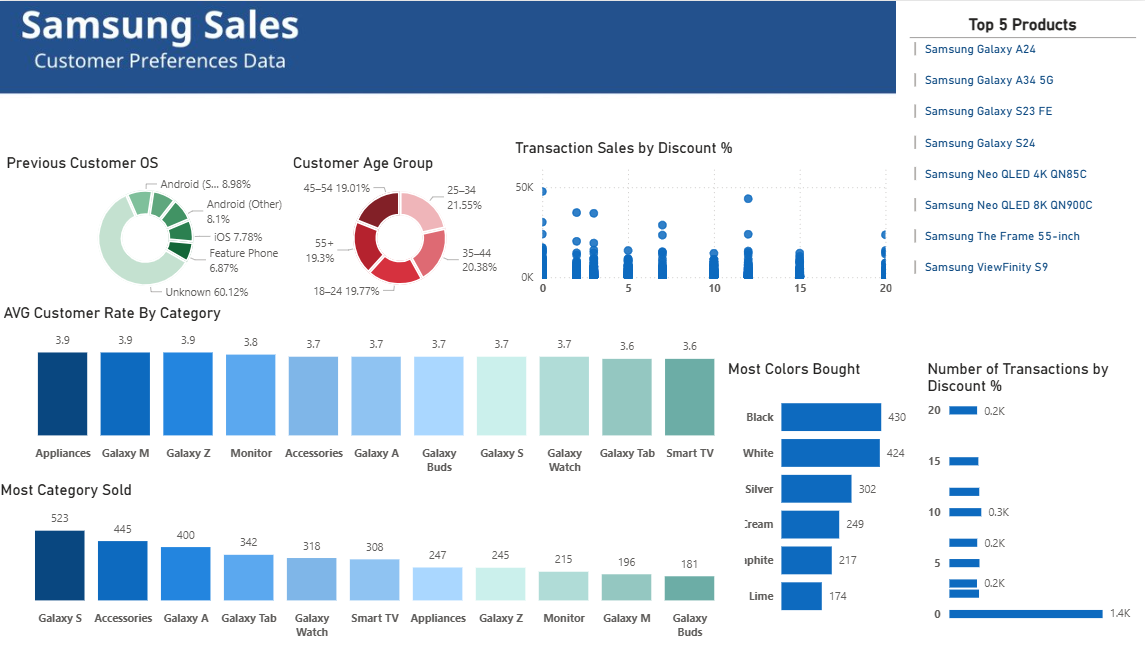

What the dashboard file says about the page in this screenshot:
{"tool":"powerbi","page":{"name":"Customer Prefrence","canvas":[1280,720],"ordinal":1},"visuals":[{"type":"donutChart","title":"Previous Customer OS","fields":{"Category":["dashboard_samsung.previous_device_os"],"Y":["CountNonNull(dashboard_samsung.previous_device_os)"]},"box":[6.7,170,318.3,166.7],"z":0},{"type":"clusteredColumnChart","title":"AVG Customer Rate By Category","fields":{"Category":["dashboard_samsung.category"],"Y":["Median(dashboard_samsung.customer_rating)"]},"box":[3.3,336.7,828.3,196.7],"z":1000},{"type":"clusteredBarChart","title":"Number of Transactions by Discount %","fields":{"Category":["dashboard_samsung.discount_pct"],"Y":["CountNonNull(dashboard_samsung.discount_pct)"]},"box":[1030,398.3,238.3,300],"z":2000},{"type":"clusteredBarChart","title":"Most Colors Bought","fields":{"Category":["dashboard_samsung.color"],"Y":["CountNonNull(dashboard_samsung.color)"]},"box":[808.3,398.3,210,300],"z":3000},{"type":"clusteredColumnChart","title":"Most Category Sold","fields":{"Category":["dashboard_samsung.category"],"Y":["CountNonNull(dashboard_samsung.category)"]},"box":[0,533.3,831.7,183.3],"z":4000},{"type":"donutChart","title":"Customer Age Group","fields":{"Category":["dashboard_samsung.customer_age_group"],"Y":["CountNonNull(dashboard_samsung.customer_age_group)"]},"box":[325,170,246.7,166.7],"z":5000},{"type":"scatterChart","title":"Transaction Sales by Discount %","fields":{"X":["dashboard_samsung.discount_pct"],"Y":["dashboard_samsung.total_transaction_price"]},"box":[571.7,153.3,428.3,183.3],"z":5002},{"type":"shape","box":[1000,0,280,150],"z":5003},{"type":"multiRowCard","title":"Top 5 Products","fields":{"Values":["dashboard_samsung.product_name"]},"box":[1015,15,251.7,321.7],"z":5004}]}

Visuals, with their boxes in screenshot pixels (x1, y1, x2, y2), scaled from the page's 1280x720 canvas onto the 1145x646 screenshot:
"Previous Customer OS" donutChart: locate(6, 153, 291, 302)
"AVG Customer Rate By Category" clusteredColumnChart: locate(3, 302, 744, 479)
"Number of Transactions by Discount %" clusteredBarChart: locate(921, 357, 1135, 627)
"Most Colors Bought" clusteredBarChart: locate(723, 357, 911, 627)
"Most Category Sold" clusteredColumnChart: locate(0, 478, 744, 643)
"Customer Age Group" donutChart: locate(291, 153, 511, 302)
"Transaction Sales by Discount %" scatterChart: locate(511, 138, 895, 302)
shape: locate(895, 0, 1144, 135)
"Top 5 Products" multiRowCard: locate(908, 13, 1133, 302)
